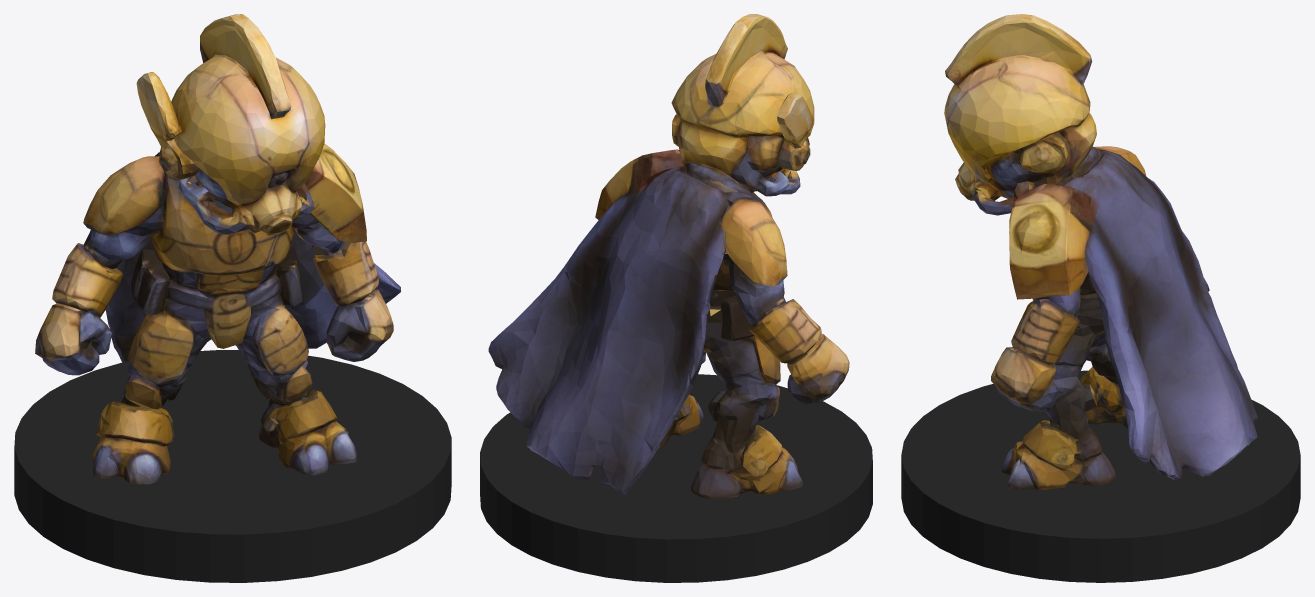
The model's file is pf-shasui.glb.
3 views of the same model, side by side, from view 1: azimuth 30°, elevation 25°; view 2: azimuth 150°, elevation 25°; view 3: azimuth 270°, elevation 25° (orthographic). The views are drawn at different scales.
Visible parts, largest first — view 1: figure, base; view 2: figure, base; view 3: figure, base.
Part boxes in pixels (left/top/right/bottom): figure: left=35, top=14, right=400, bottom=484; base: left=14, top=350, right=451, bottom=582; figure: left=488, top=14, right=849, bottom=498; base: left=480, top=374, right=872, bottom=582; figure: left=944, top=14, right=1257, bottom=490; base: left=901, top=370, right=1300, bottom=582.
Size of the model in its own units: 0.9843 by 1.27 by 0.9843.
2 materials, 1 textured.
